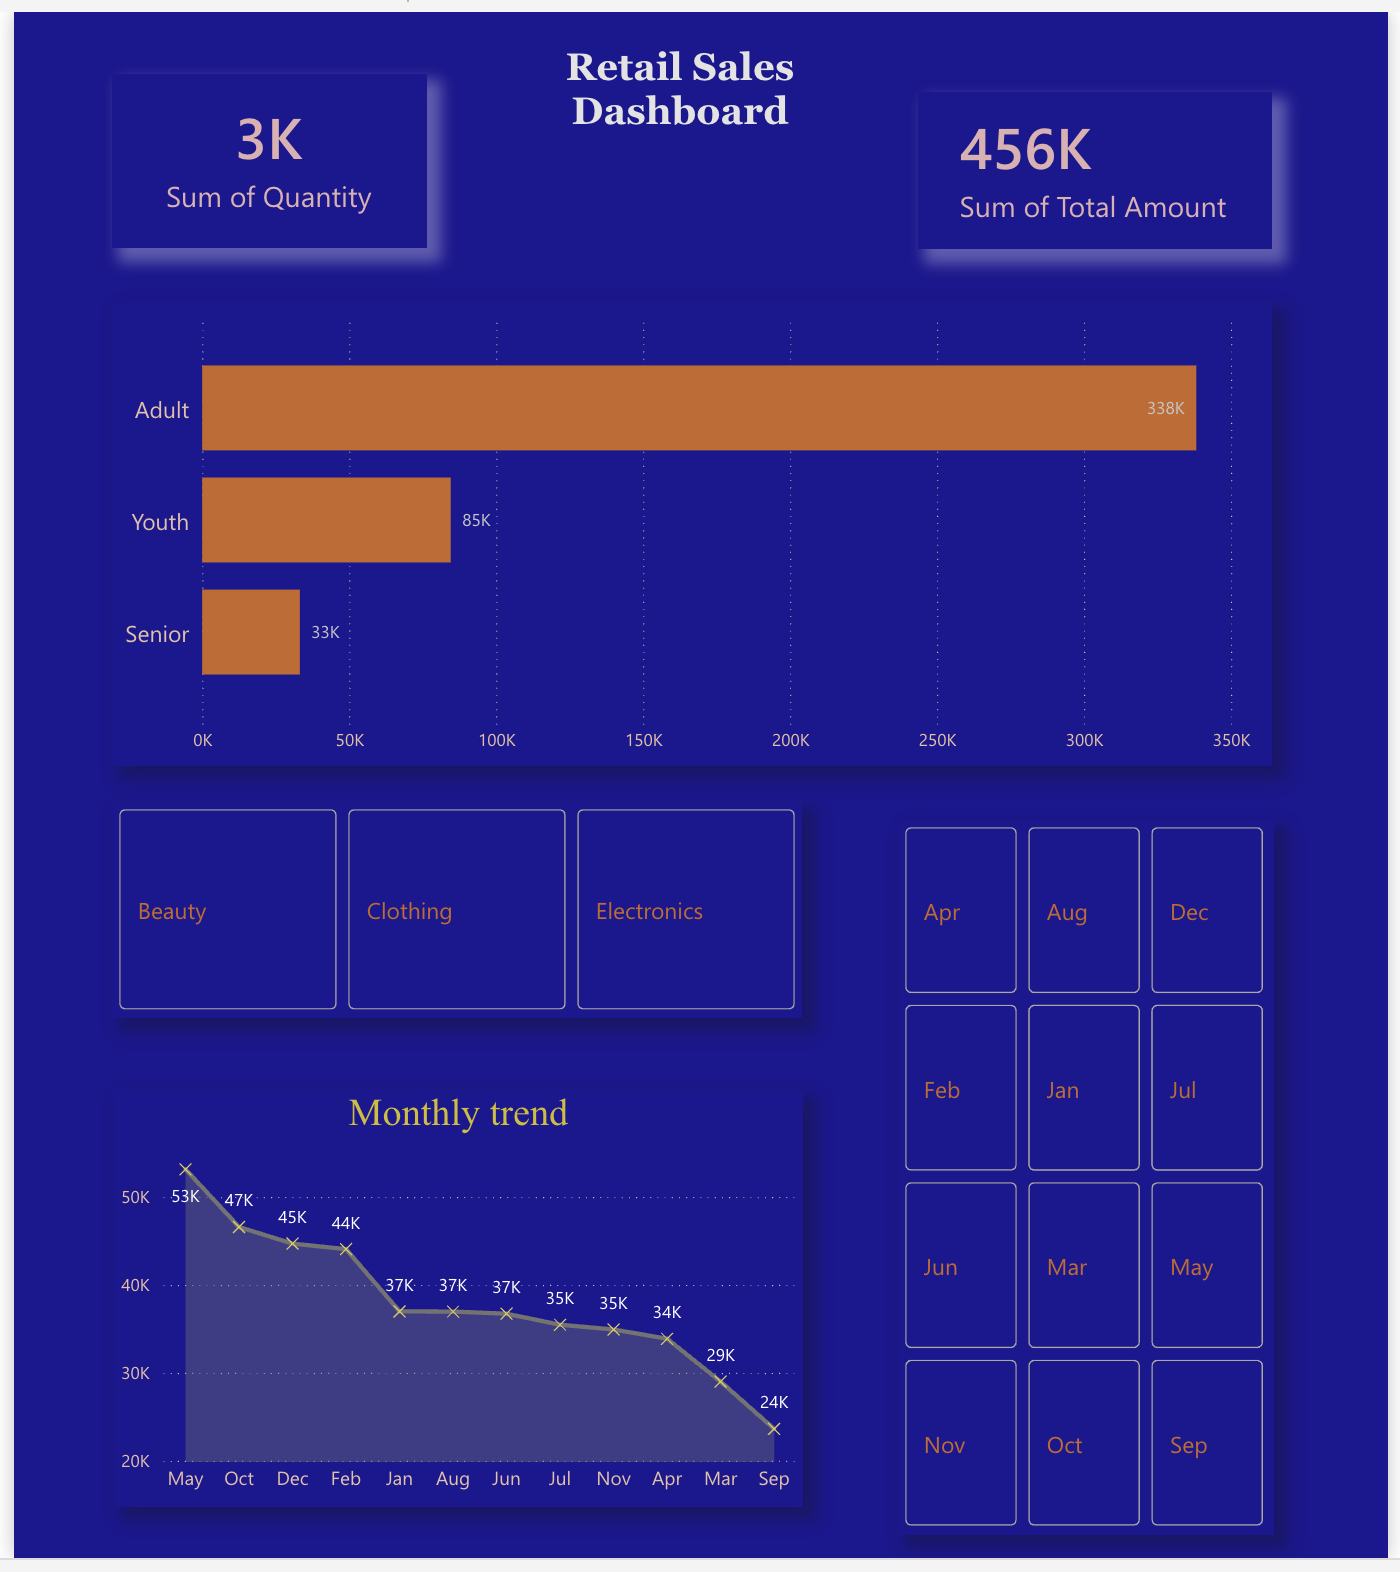

What the dashboard file says about the page in this screenshot:
{"tool":"powerbi","page":{"name":"Page 1","canvas":[960,1080],"ordinal":0},"visuals":[{"type":"cardVisual","fields":{"Data":["Sum(in.Quantity)"]},"box":[68.9,44,219.8,121.6],"z":0},{"type":"cardVisual","fields":{"Data":["Sum(in.Total Amount)"]},"box":[631.6,55.7,247.7,109.9],"z":1000},{"type":"barChart","fields":{"Category":["in.Age Group"],"Y":["Sum(in.Total Amount)"]},"box":[68.9,202.2,810.4,323.9],"z":2000},{"type":"advancedSlicerVisual","fields":{"Values":["in.Product Category"]},"box":[68.9,552.5,482.1,150.9],"z":3000},{"type":"advancedSlicerVisual","fields":{"Values":["in.Month"]},"box":[616.9,564.2,262.3,499.7],"z":4000},{"type":"lineChart","title":"Monthly trend","fields":{"Category":["in.Month"],"Y":["Sum(in.Total Amount)"]},"box":[69.5,753.6,481.1,290.9],"z":5000},{"type":"textbox","box":[373.2,18.4,184.5,73.8],"z":6000}]}

Visuals, with their boxes in screenshot pixels (x1, y1, x2, y2), scaled from the page's 960x1080 canvas onto the 1400x1572 screenshot:
cardVisual - Sum(in.Quantity): (left=100, top=64, right=421, bottom=241)
cardVisual - Sum(in.Total Amount): (left=921, top=81, right=1282, bottom=241)
barChart - in.Age Group x Sum(in.Total Amount): (left=100, top=294, right=1282, bottom=766)
advancedSlicerVisual - in.Product Category: (left=100, top=804, right=804, bottom=1024)
advancedSlicerVisual - in.Month: (left=900, top=821, right=1282, bottom=1549)
"Monthly trend" lineChart: (left=101, top=1097, right=803, bottom=1520)
textbox: (left=544, top=27, right=813, bottom=134)
